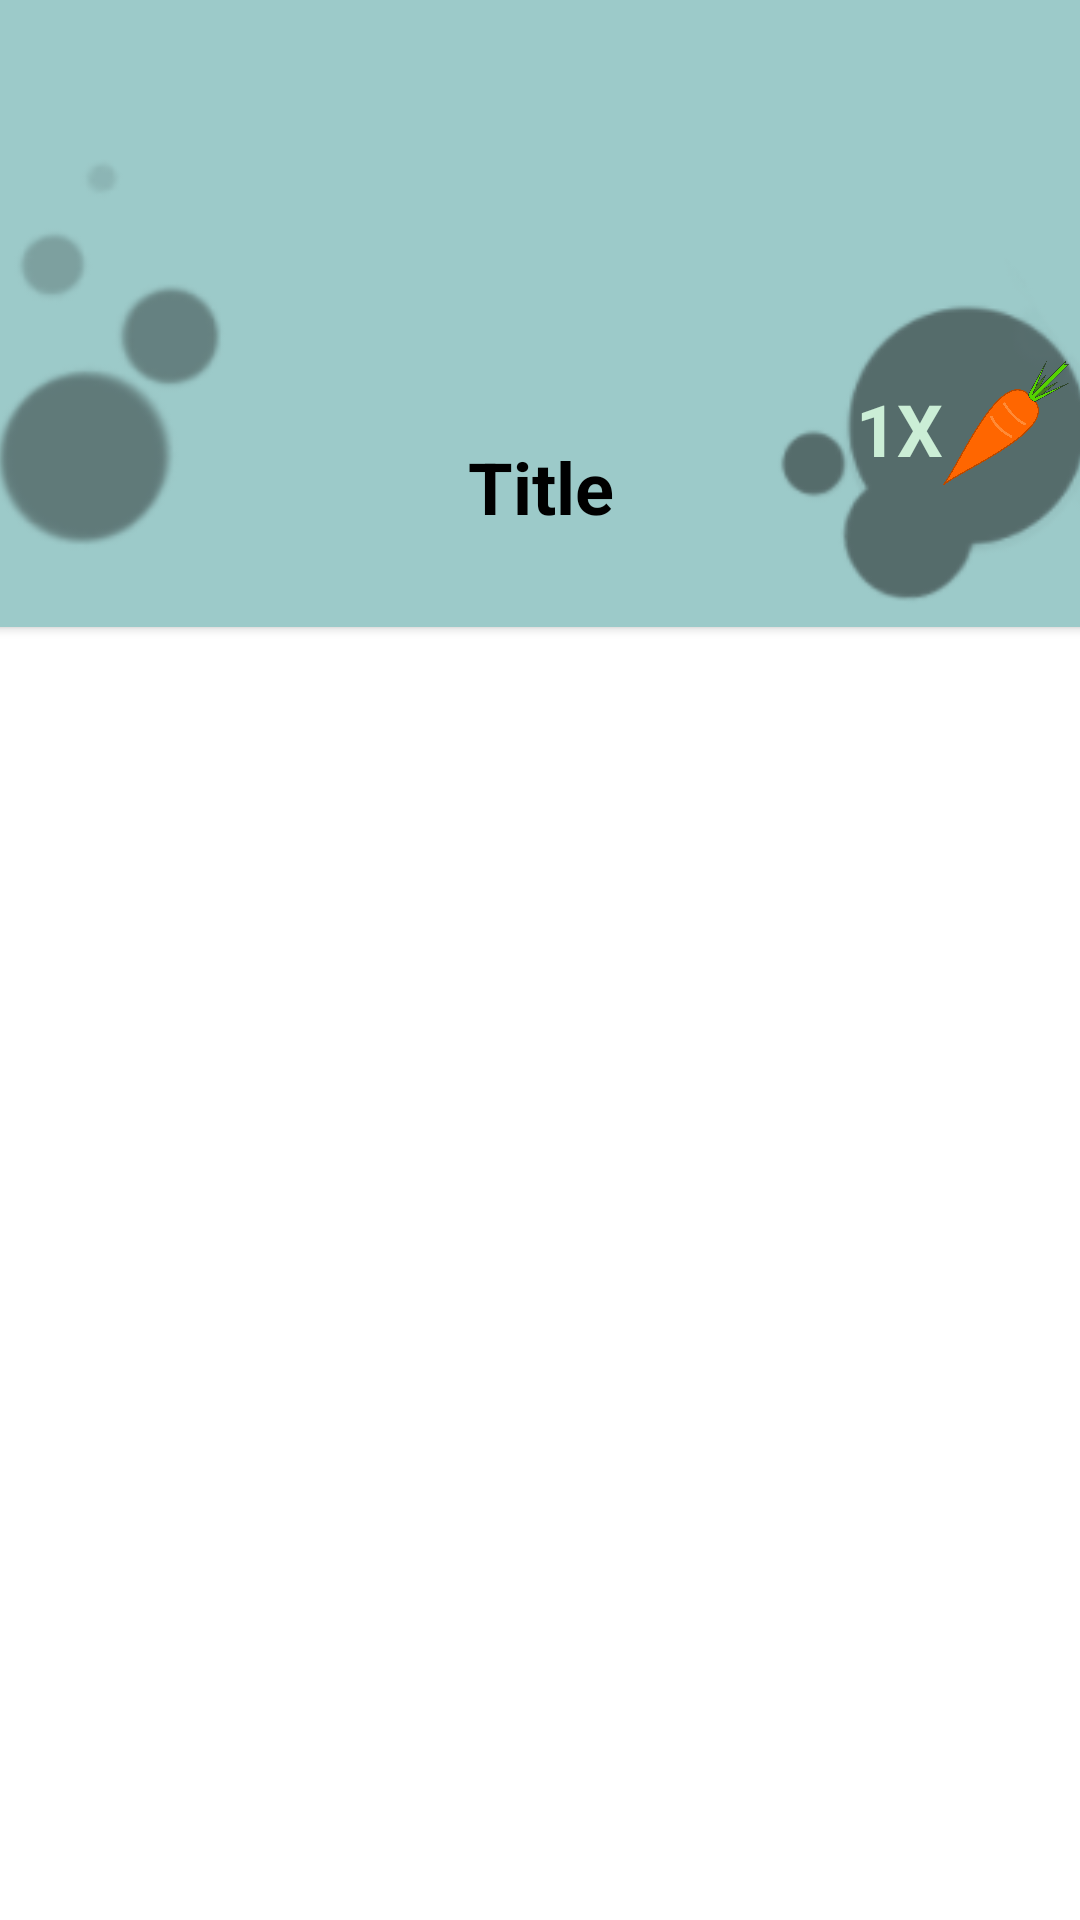

Screen size 1080*1920. Icon name, then its center in pixels as (x,y):
carroticon: (1006,423)
